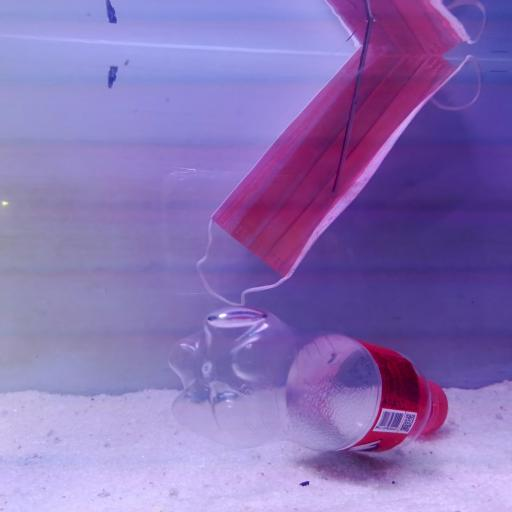bottle_cap: (418, 379, 451, 440)
mask: (192, 50, 489, 309)
plastic_bottle: (167, 319, 454, 464)
